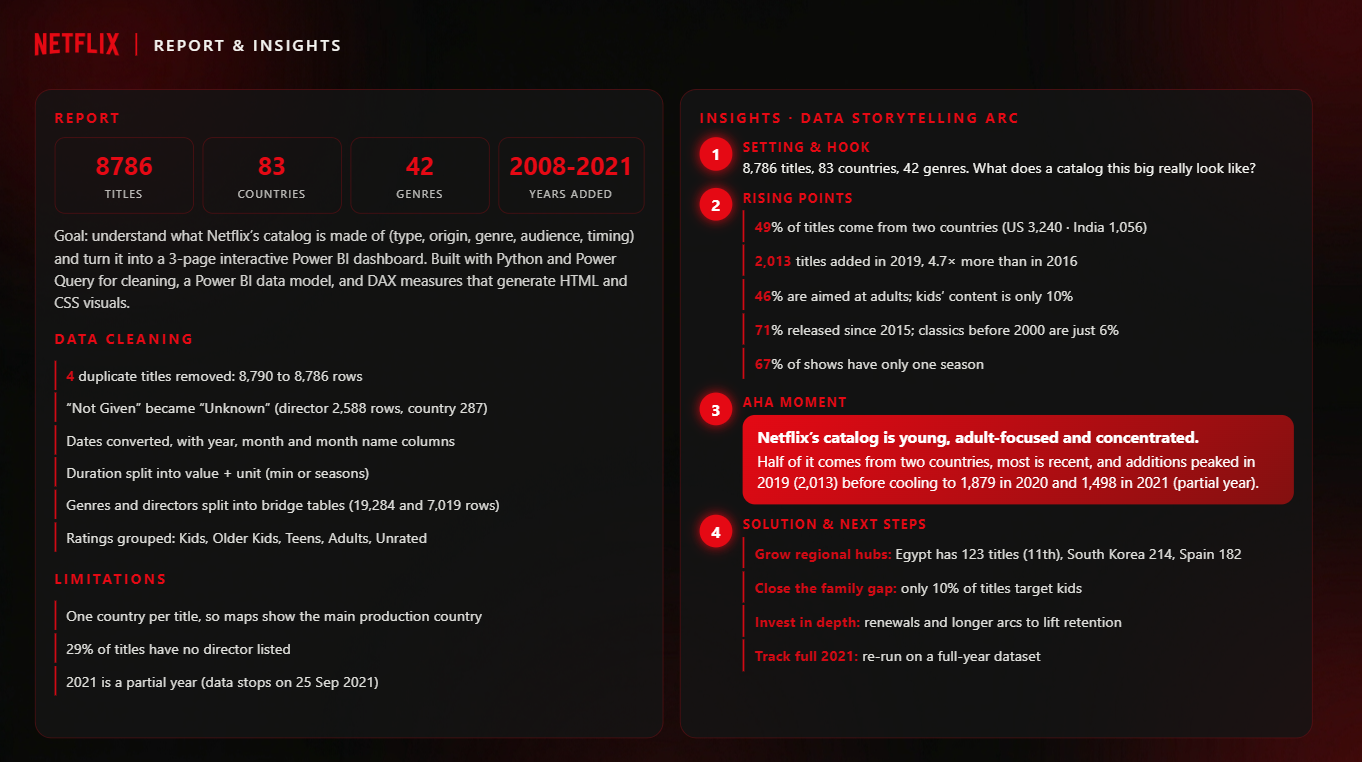

The page's visual inventory and layout, read from the dashboard file:
{"tool":"powerbi","page":{"name":"Reporting_Insights","canvas":[1280,720],"ordinal":3},"visuals":[{"type":"htmlContent443BE3AD55E043BF878BED274D3A6855","fields":{"content":["Theme.P4_Report_Insights"]},"box":[0,0,1279.7,720.3],"z":0}]}

Visuals, with their boxes in screenshot pixels (x1, y1, x2, y2), scaled from the page's 1280x720 canvas onto the 1362x762 screenshot:
htmlContent443BE3AD55E043BF878BED274D3A6855 - Theme.P4_Report_Insights: box=[0, 0, 1361, 761]
